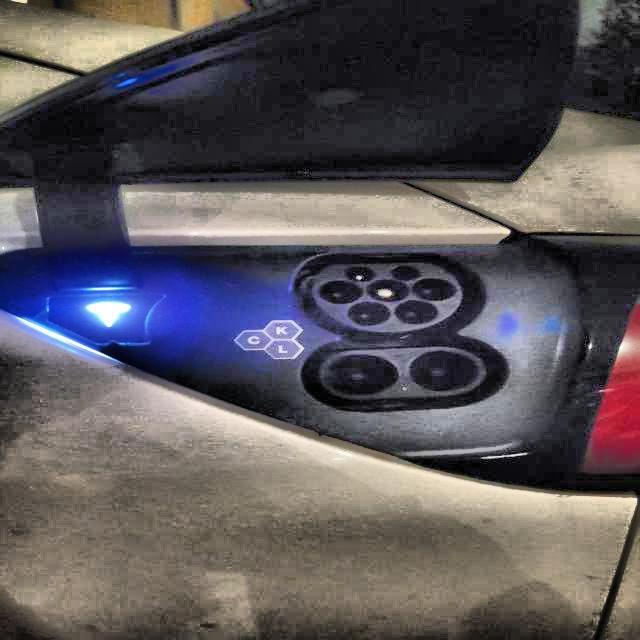inlet: (313, 263, 462, 332)
inlet-above-left: (345, 266, 375, 282)
inlet-above-right: (390, 264, 422, 280)
inlet-below-left: (347, 301, 391, 326)
inlet-below-right: (394, 300, 438, 324)
inlet-center: (367, 279, 410, 302)
inlet-center-left: (318, 280, 363, 304)
inlet-center-right: (412, 278, 456, 301)
